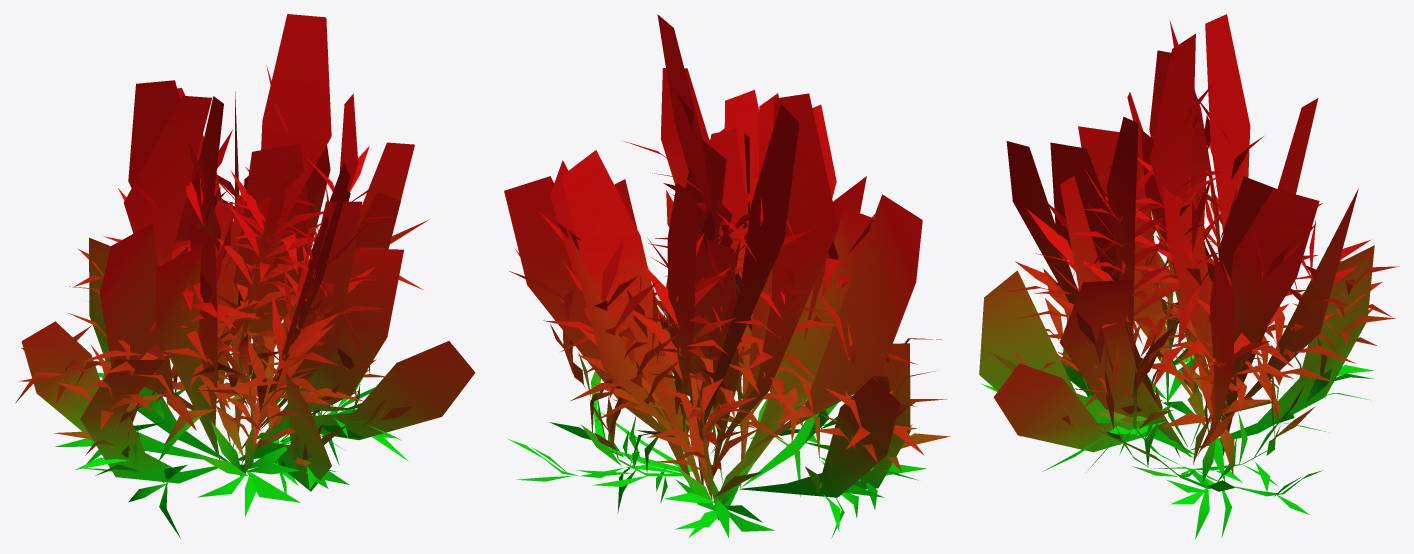
The model's file is Var2_LOD6.fbx.
3 views of the same model, side by side, from view 1: azimuth 30°, elevation 25°; view 2: azimuth 150°, elevation 25°; view 3: azimuth 270°, elevation 25° (orthographic). The views are drawn at different scales.
Visible parts, largest first — view 1: _hksz_Var2_LOD6; view 2: _hksz_Var2_LOD6; view 3: _hksz_Var2_LOD6.
Part boxes in pixels (x1,y1,x2,y2): _hksz_Var2_LOD6: (15,14,475,538); _hksz_Var2_LOD6: (504,14,950,538); _hksz_Var2_LOD6: (979,14,1399,539).
Size of the model in its own units: 26.68 by 29.5 by 23.2.
